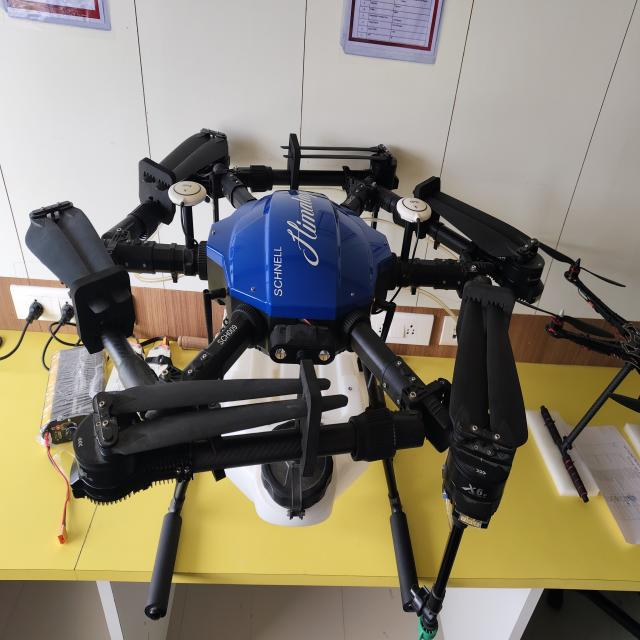agriculturedrone: (20, 118, 590, 640)
